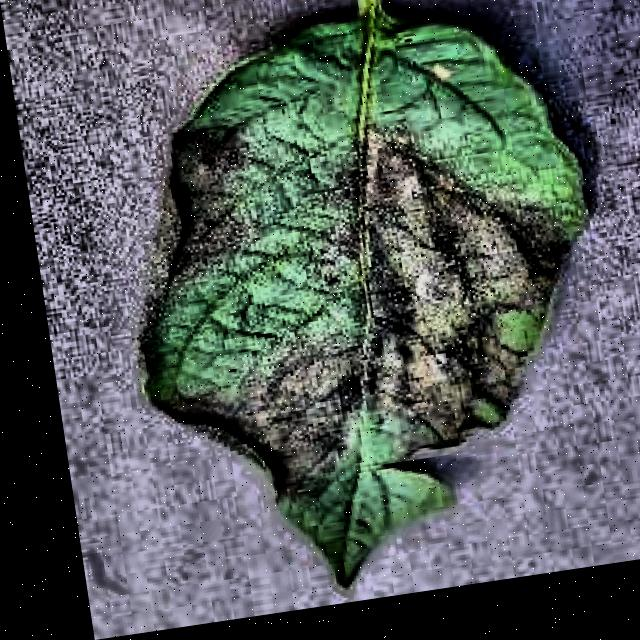Potato_leaf_late_blight: (116, 1, 591, 594)
